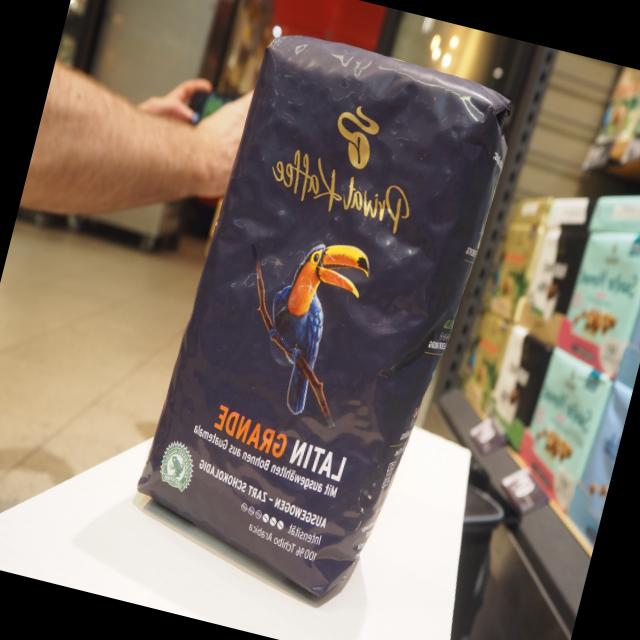LG Bohne: (130, 23, 551, 626)
